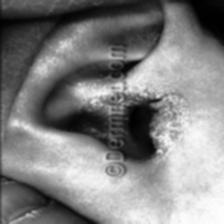Non-Cancerous Skin Condition: (146, 92, 186, 153), (125, 95, 144, 109)
